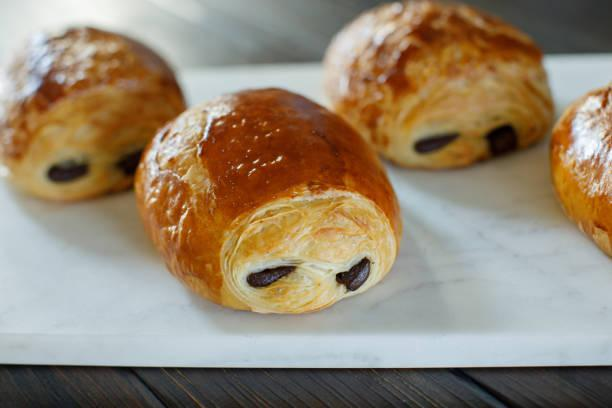pain au chocolat: (130, 91, 401, 327), (320, 0, 552, 179), (0, 20, 174, 204)
